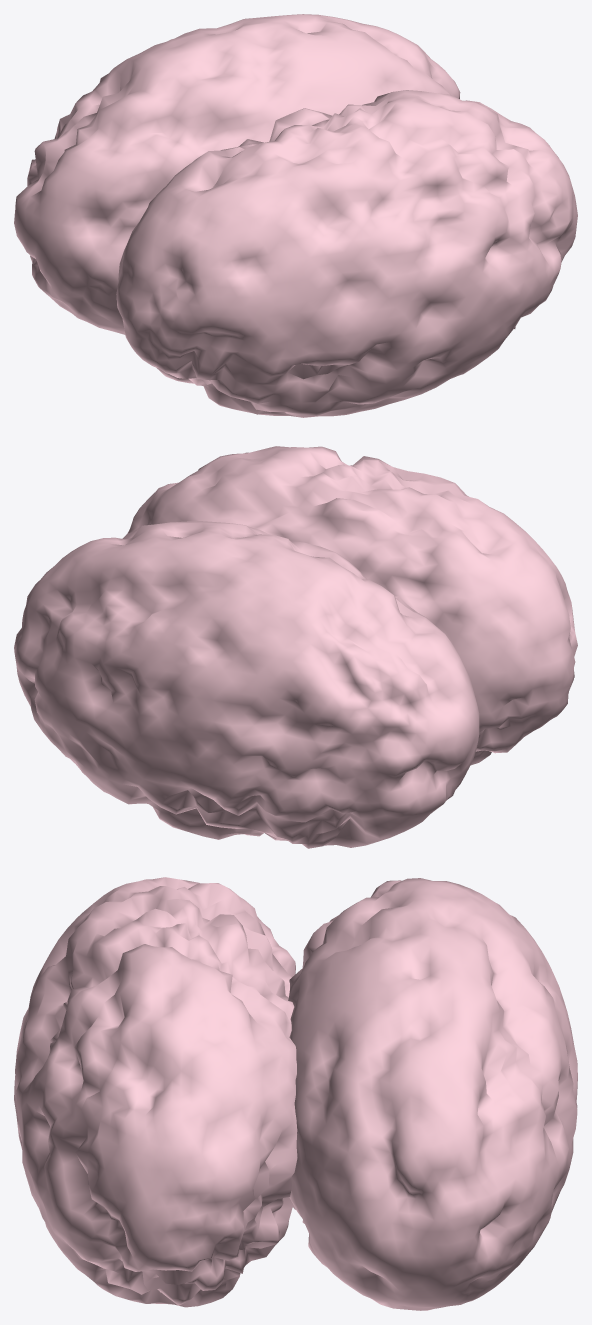
File: creature.brain.glb
3 renders of one model, top to bottom at view 1: azimuth 30°, elevation 25°; view 2: azimuth 150°, elevation 25°; view 3: azimuth 270°, elevation 25°, orthographic. The views are drawn at different scales.
Parts seen in each view (by area): view 1: Brain; view 2: Brain; view 3: Brain.
Part boxes in pixels (x1,y1,x2,y2): Brain: (14,14,577,417); Brain: (14,446,577,848); Brain: (14,877,577,1310).
Size of the model in its own units: 1.32 by 0.8489 by 1.23.
